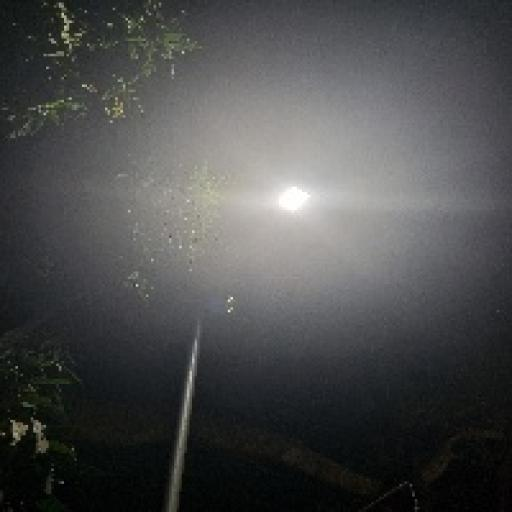Working: (262, 172, 317, 221)
